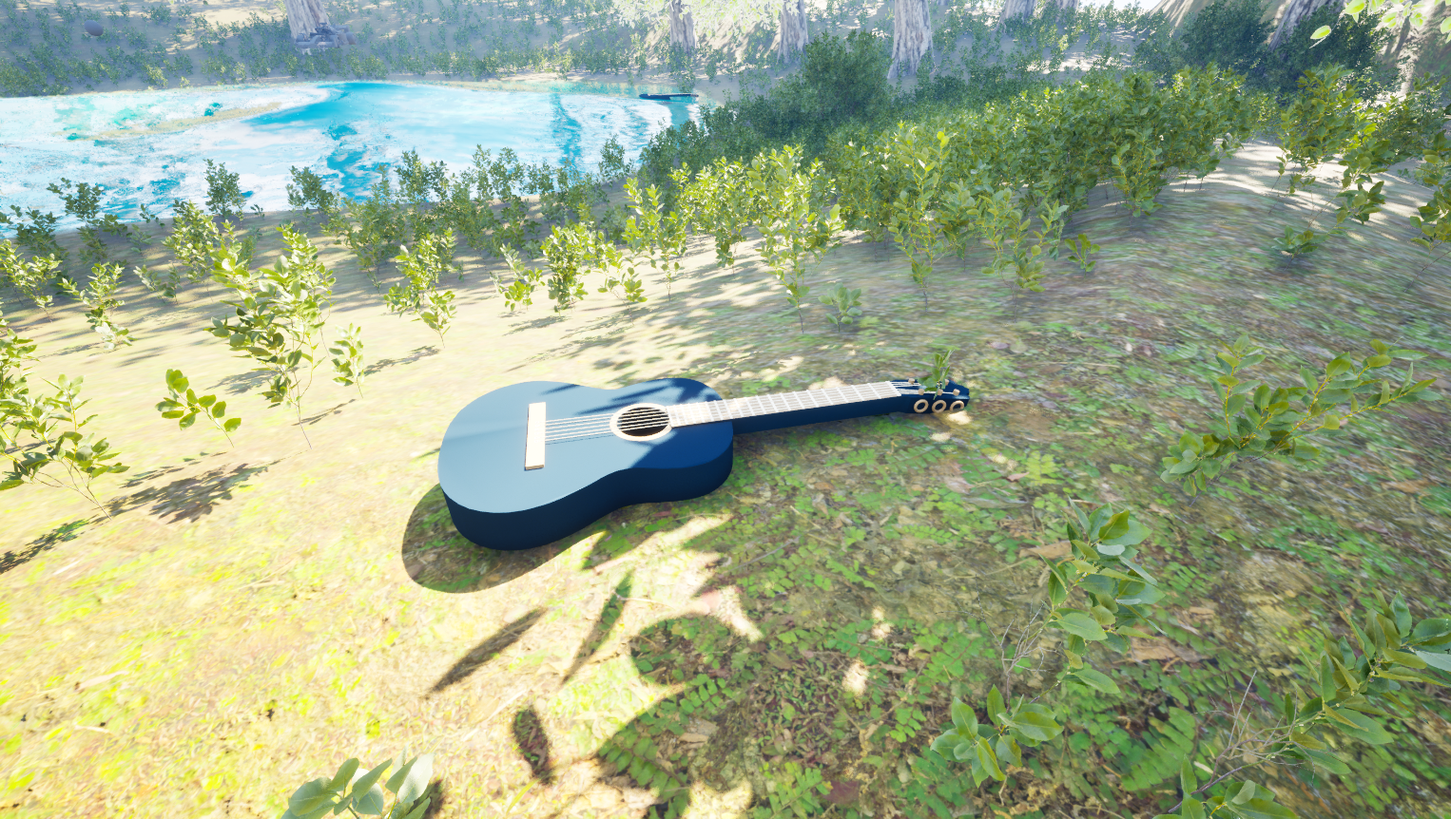Guitar: (419, 334, 1030, 564)
